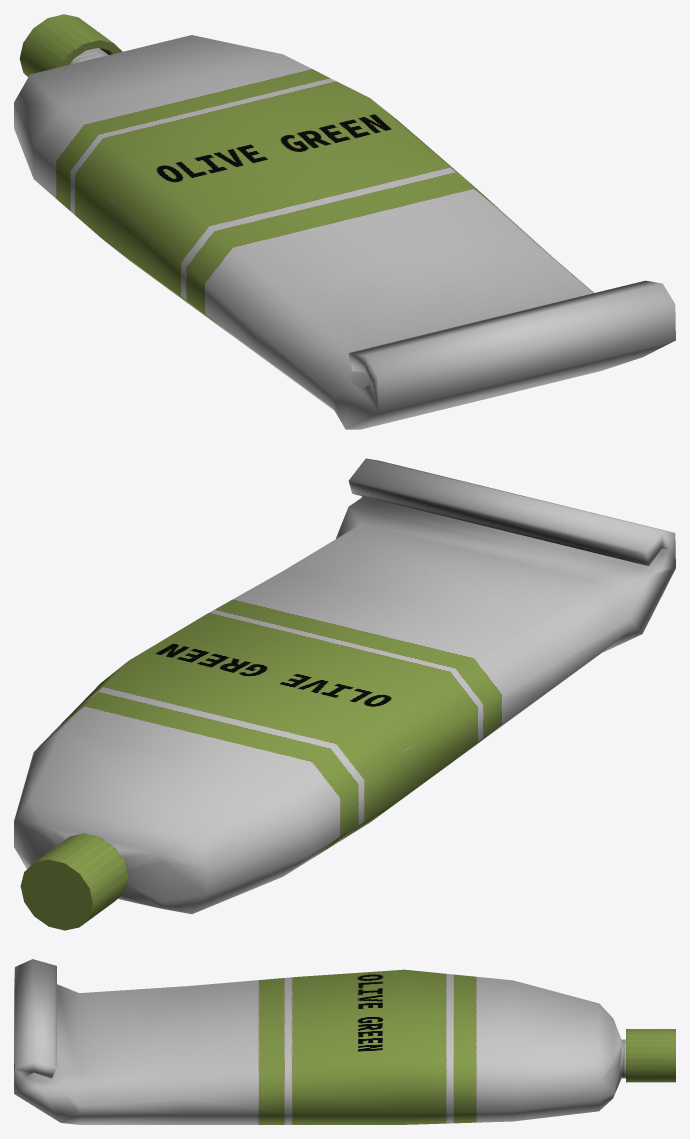
File: paint_04.fbx
3 views of the same model, one above another, from view 1: azimuth 30°, elevation 25°; view 2: azimuth 150°, elevation 25°; view 3: azimuth 270°, elevation 25° (orthographic). The views are drawn at different scales.
Parts seen in each view (by area): view 1: paint_04, paint_04.lid; view 2: paint_04, paint_04.lid; view 3: paint_04, paint_04.lid.
Boxes of the visible parts, x1=… form: paint_04: x1=14, y1=35, x2=675, y2=429; paint_04.lid: x1=19, y1=14, x2=122, y2=76; paint_04: x1=14, y1=458, x2=675, y2=914; paint_04.lid: x1=20, y1=833, x2=128, y2=930; paint_04: x1=14, y1=959, x2=625, y2=1124; paint_04.lid: x1=626, y1=1029, x2=675, y2=1082.
Size of the model in its own units: 11.6 by 3.91 by 31.88.
